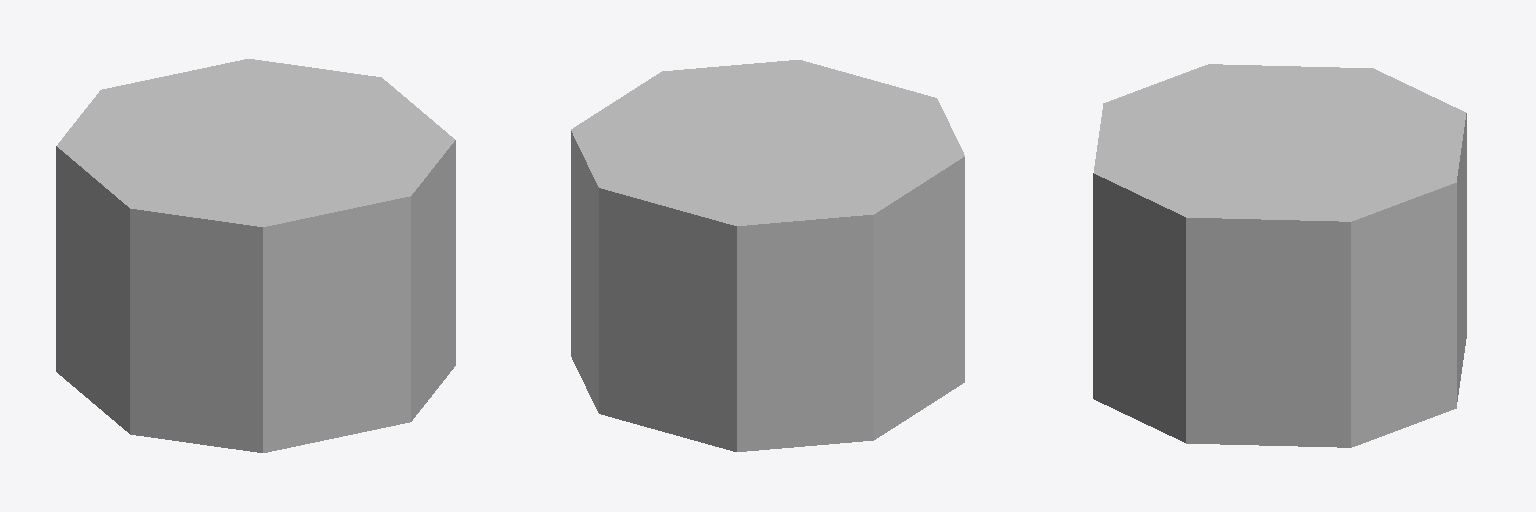
File: RotorH_Support.obj
The picture shows the model from 3 angles: view 1: azimuth 30°, elevation 25°; view 2: azimuth 150°, elevation 25°; view 3: azimuth 270°, elevation 25°; orthographic projection.
Parts seen in each view (by area): view 1: RotorH_Support_Support_Cube; view 2: RotorH_Support_Support_Cube; view 3: RotorH_Support_Support_Cube.
Boxes of the visible parts, x1=… form: RotorH_Support_Support_Cube: x1=56, y1=59, x2=455, y2=452; RotorH_Support_Support_Cube: x1=571, y1=60, x2=964, y2=451; RotorH_Support_Support_Cube: x1=1093, y1=64, x2=1466, y2=447.
Size of the model in its own units: 1.2 by 0.8 by 1.2.